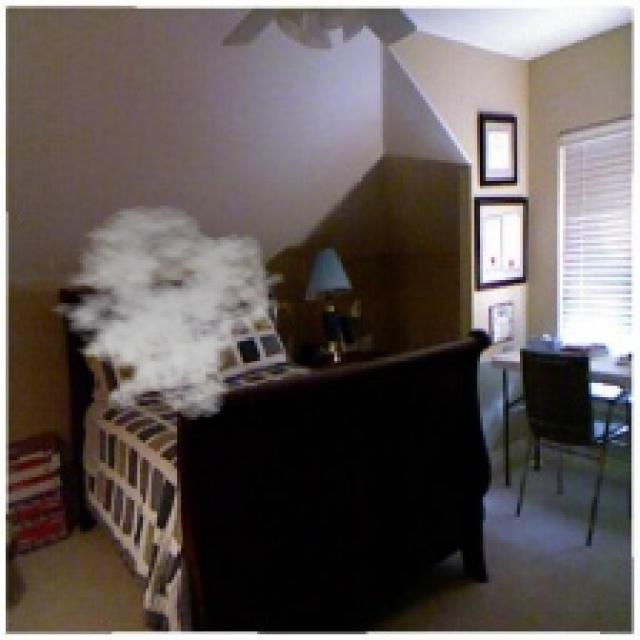Smoke: (37, 203, 286, 420)
